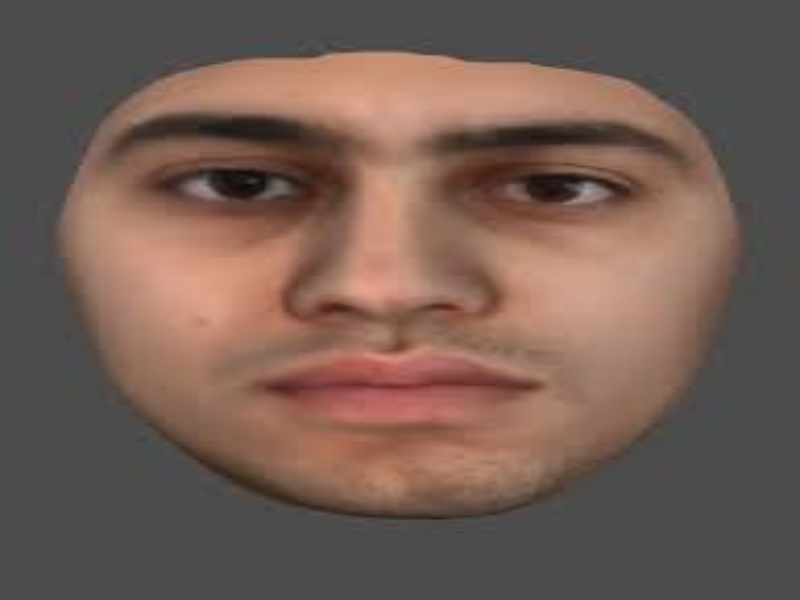face: (112, 83, 698, 465)
